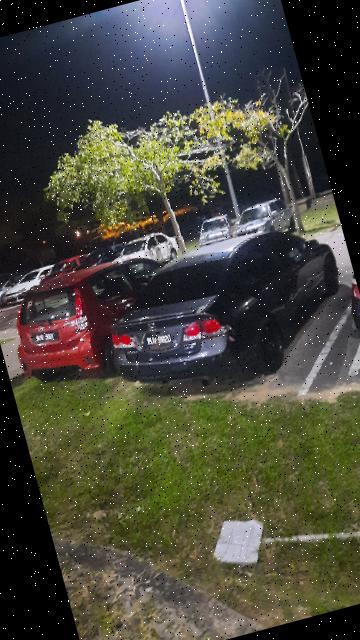License_Plate: (136, 321, 184, 357), (26, 323, 61, 350)
car: (90, 210, 360, 412), (2, 241, 211, 398)
